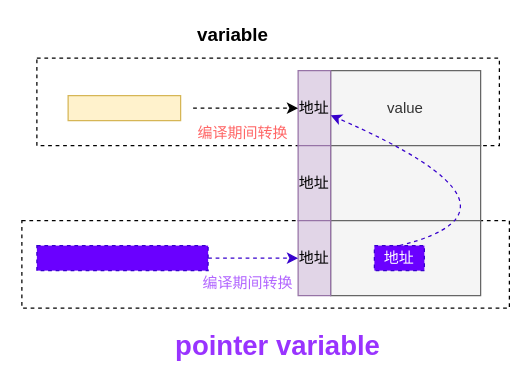
Some shapes in this 531 by 384 pixel diagram are drawn without their labels. Each missing label, with the centre of its shape:
"pointer variable name" goes at point (122, 257).
"variable name" goes at point (124, 107).
